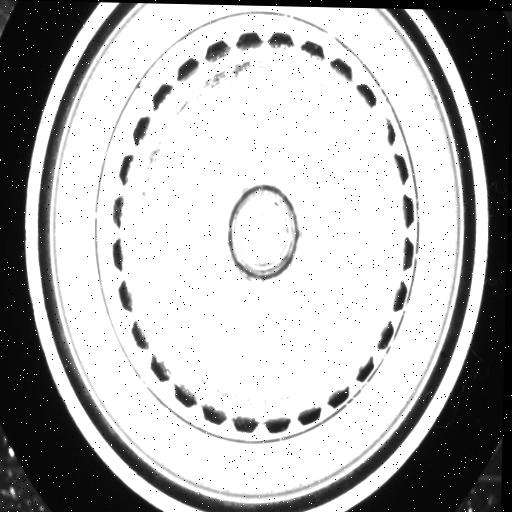gear: (106, 25, 422, 439)
